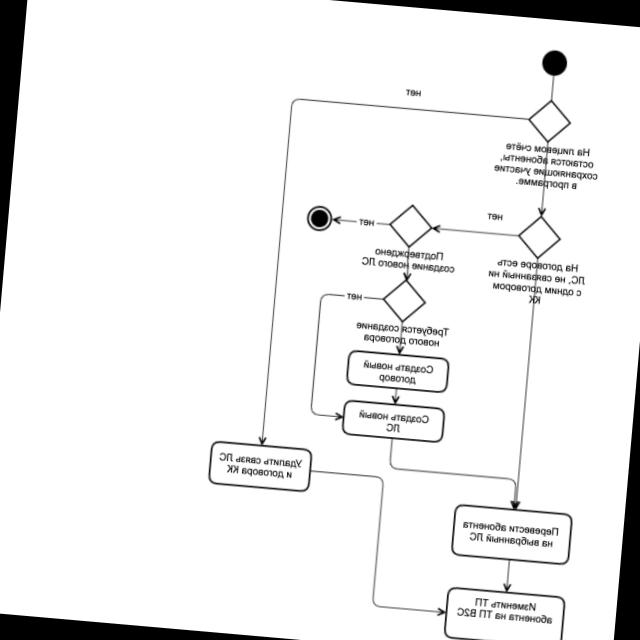arrow: (256, 94, 530, 465), (298, 468, 456, 618), (307, 290, 384, 424), (384, 438, 526, 510), (509, 257, 544, 508), (432, 222, 520, 241), (536, 142, 552, 216), (332, 212, 389, 230), (400, 245, 414, 280), (394, 320, 408, 354), (500, 559, 514, 592), (389, 387, 401, 405)
circle: (542, 51, 566, 76), (306, 207, 331, 230)
diamond: (519, 217, 559, 258), (529, 101, 569, 142), (383, 281, 424, 321), (389, 205, 429, 246)
rectangle: (451, 505, 571, 564), (444, 588, 564, 639), (208, 442, 311, 491), (341, 401, 443, 442), (346, 351, 448, 392)
text_region: (491, 138, 602, 193), (484, 254, 586, 308), (358, 242, 456, 276), (352, 318, 450, 350), (486, 210, 504, 222), (358, 216, 376, 228), (404, 88, 422, 99), (345, 291, 363, 302)
